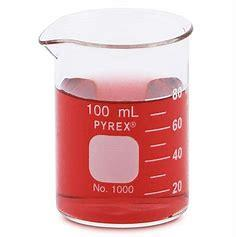Beaker: (30, 0, 197, 229)
